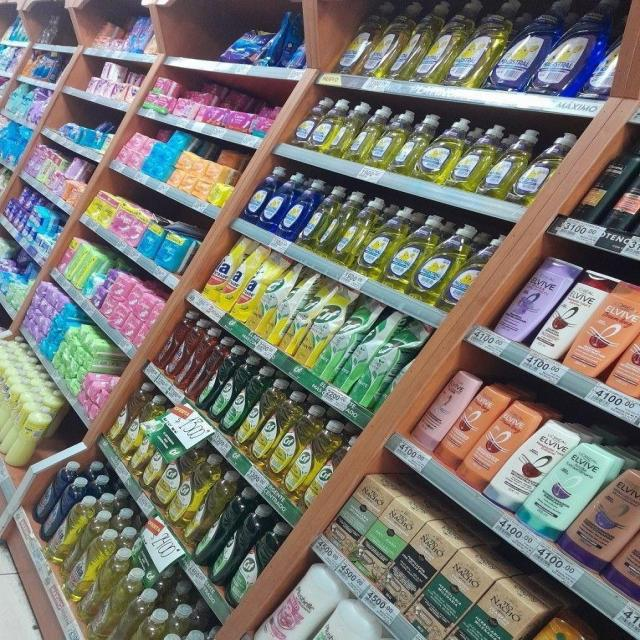magistral_con_amarillo: (451, 6, 496, 88), (420, 126, 459, 183), (456, 130, 491, 191), (374, 118, 404, 170)
